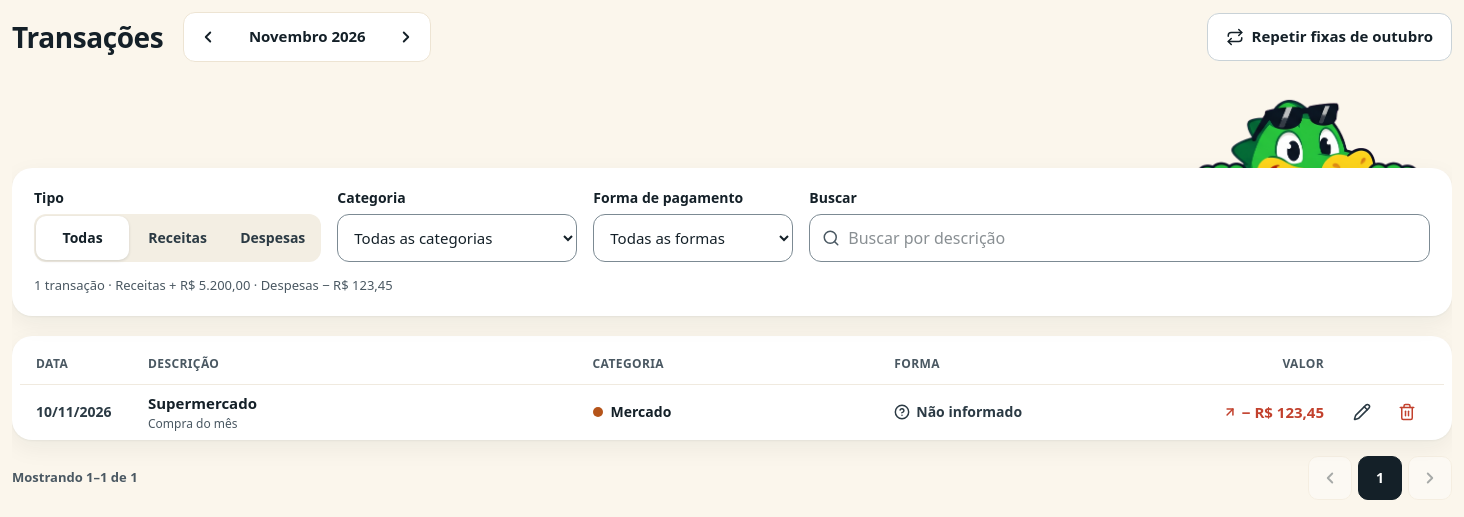
Scenario: TransacoesPage › troca o mês pelo seletor global
Expected: the text "Novembro 2026" is shown, [249,26,366,46]
Click the button named "Mês anterior" at (208, 36), box [186,14,230,58]
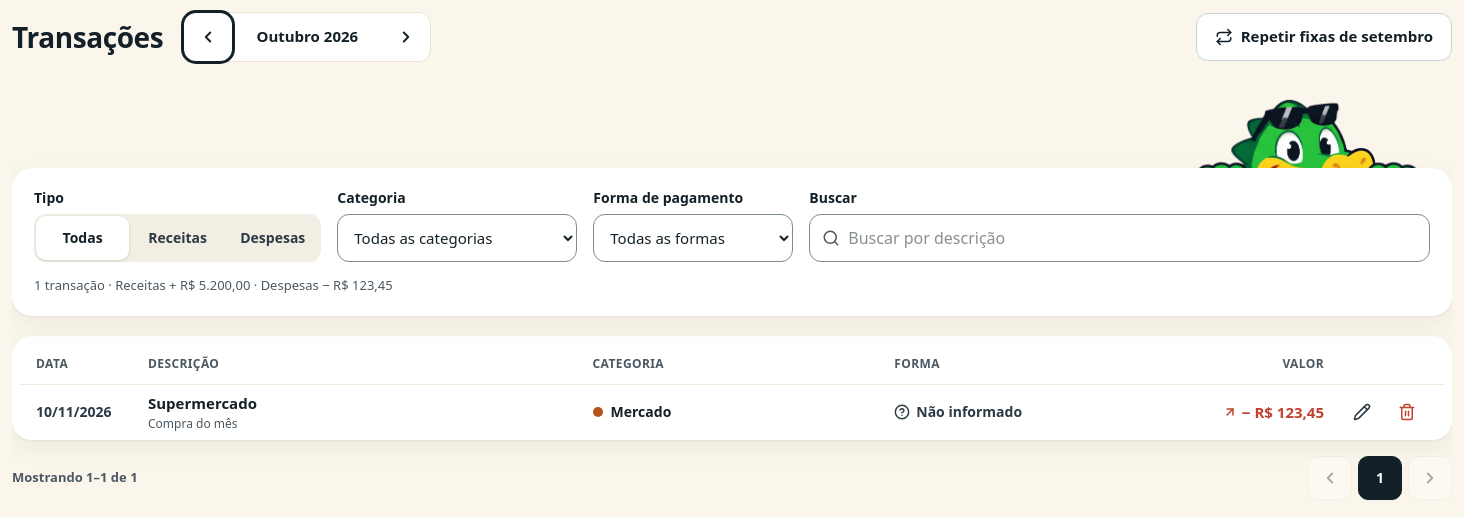
Result: the text "Outubro 2026" is shown at [256,26,358,46]
